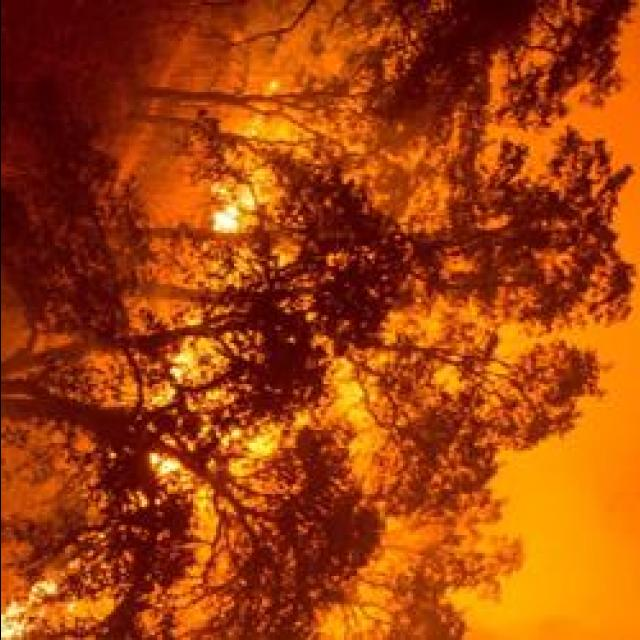fire: (210, 147, 276, 239)
smoke: (490, 446, 640, 640)
